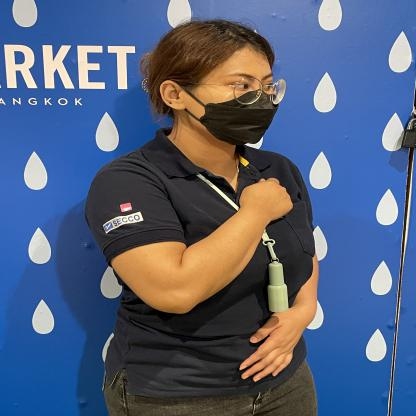Sadness: (187, 169, 314, 241)
